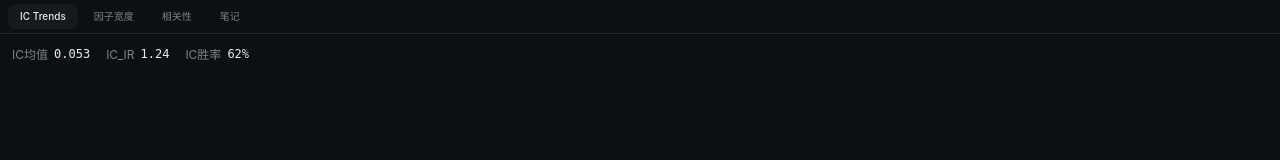
Test case: AnalysisBand › switches to 笔记 tab and renders note items
The width and height of the screenshot is (1280, 160).
Click the tab "笔记" at [230, 17], box [208, 4, 252, 29]
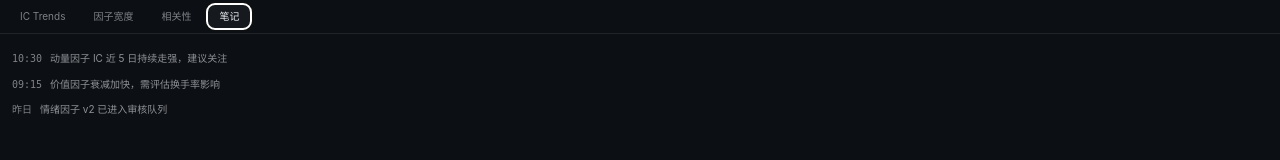
expect the list item "10:30 动量因子 IC 近 5 日持续走强，建议关注" is shown: met, box [12, 52, 227, 64]
